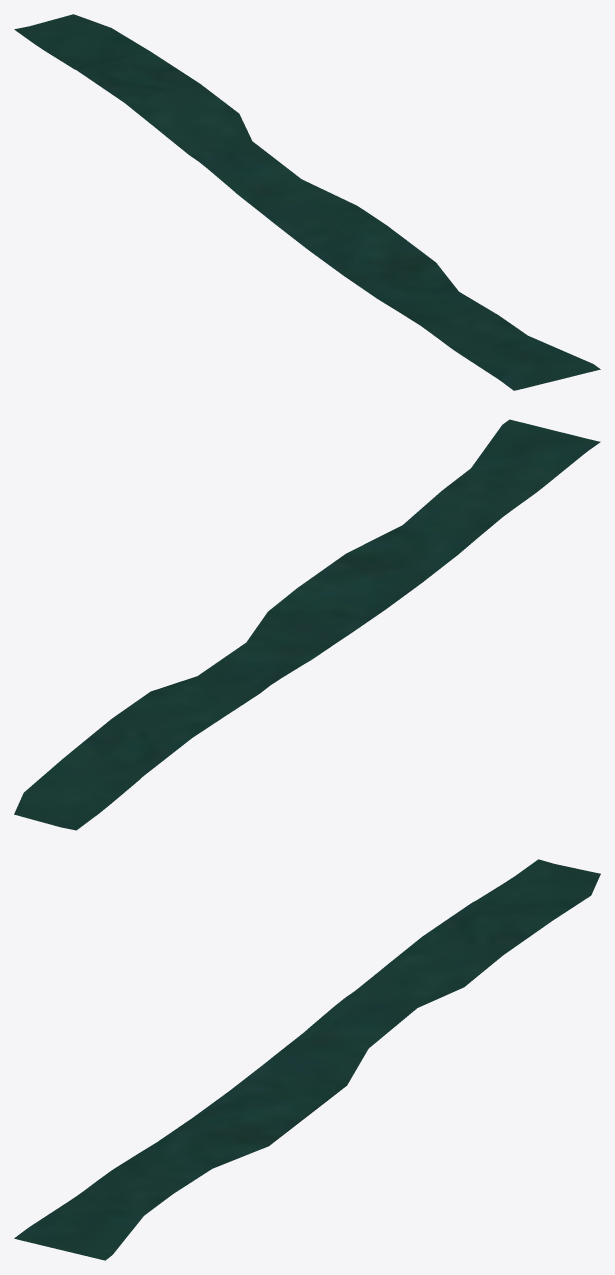
3 views of the same model, one above another, from view 1: azimuth 30°, elevation 25°; view 2: azimuth 150°, elevation 25°; view 3: azimuth 330°, elevation 25° (orthographic). The views are drawn at different scales.
Bounding box in the file's own units: 5.25 × 0.776 × 52.22.
1 material, 1 textured.
